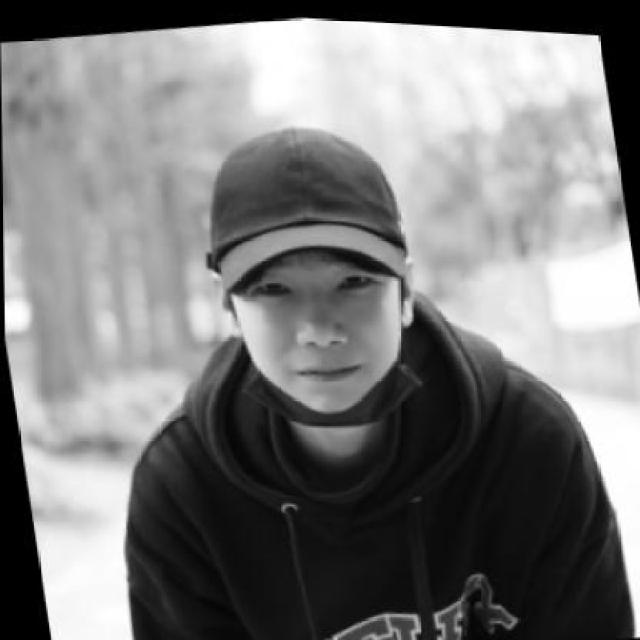hat: (188, 98, 409, 305)
